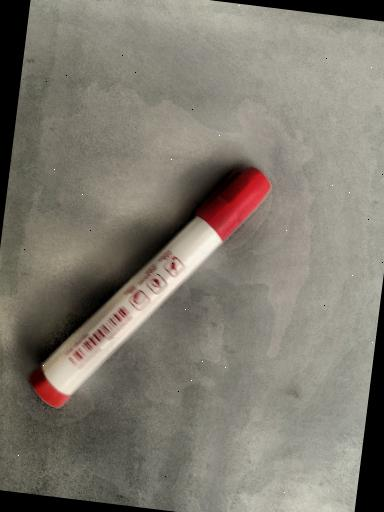marcador rojo: (29, 167, 270, 407)
